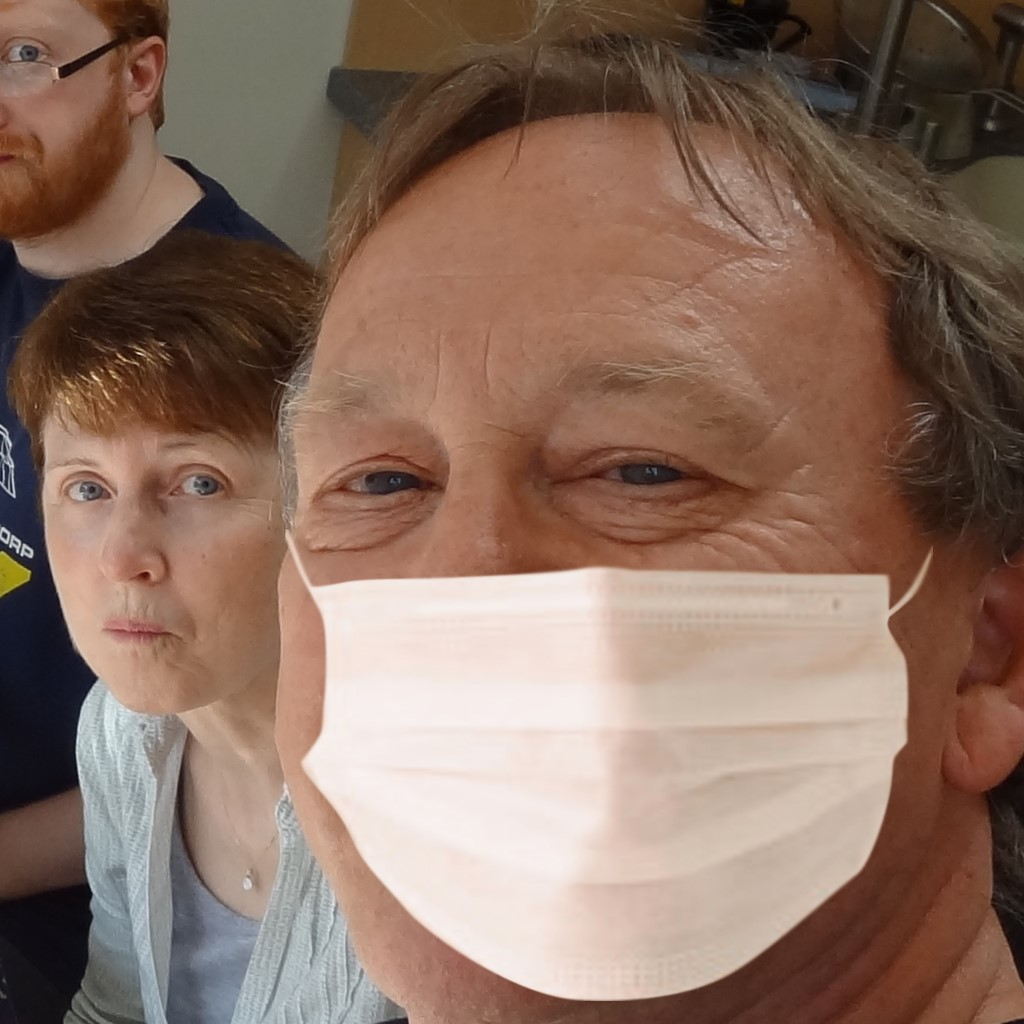con_mascara: (264, 157, 929, 993)
